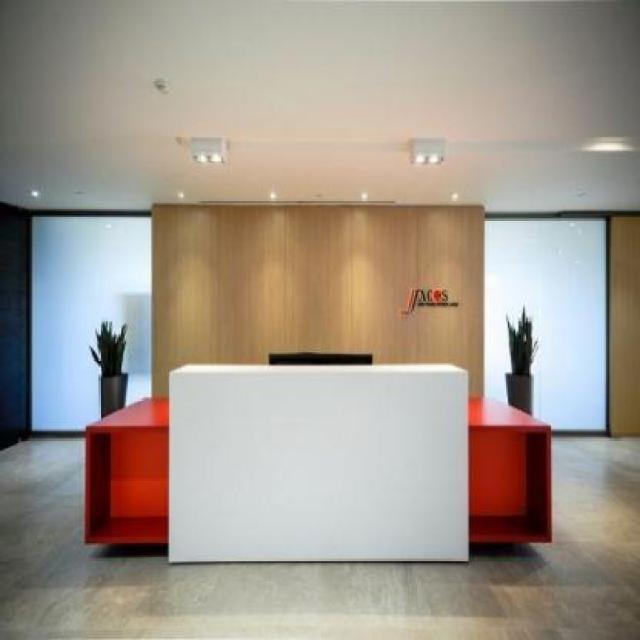frontdesk: (84, 312, 556, 570)
